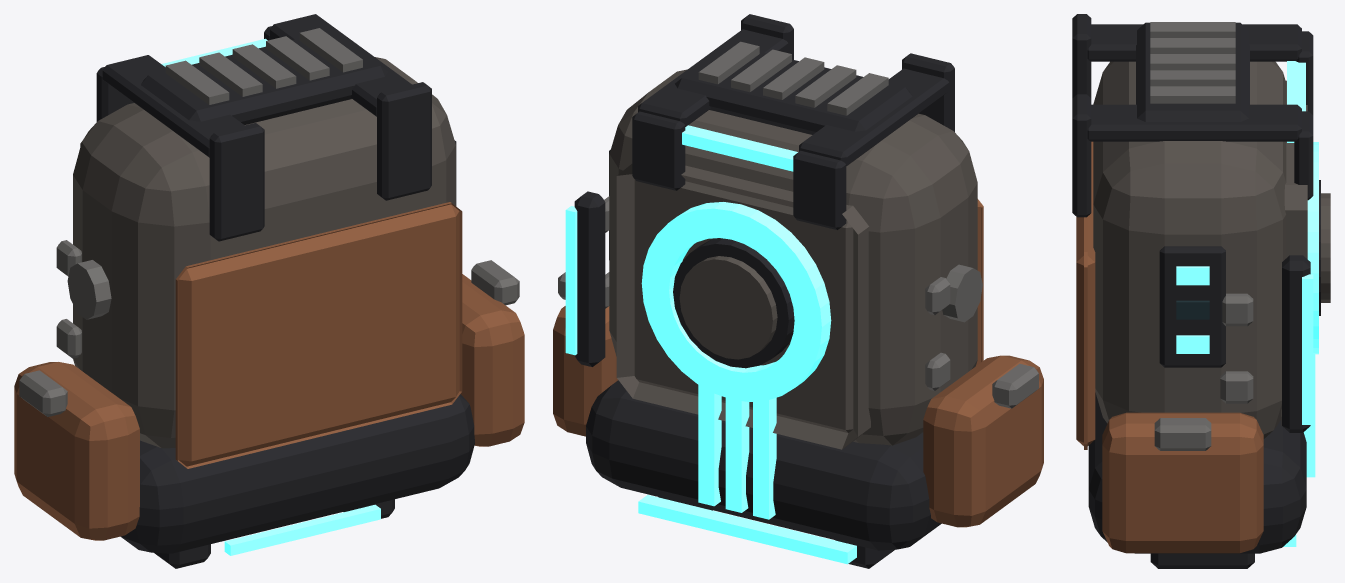
Rendered from backpack.glb.
The picture shows the model from 3 angles, left to right: view 1: azimuth 30°, elevation 25°; view 2: azimuth 150°, elevation 25°; view 3: azimuth 270°, elevation 25°; orthographic projection. The views are drawn at different scales.
Parts seen in each view (by area): view 1: Backpack_Harness, Backpack_Casing, Backpack_Details, Backpack_Glow; view 2: Backpack_Casing, Backpack_Harness, Backpack_Glow, Backpack_Details; view 3: Backpack_Casing, Backpack_Harness, Backpack_Details, Backpack_Glow.
Part boxes in pixels (x1,y1,x2,y2): Backpack_Harness: (14, 14, 524, 568); Backpack_Casing: (56, 57, 474, 553); Backpack_Details: (67, 28, 456, 319); Backpack_Glow: (161, 38, 380, 555); Backpack_Casing: (586, 69, 977, 550); Backpack_Harness: (553, 14, 1043, 568); Backpack_Glow: (565, 125, 856, 564); Backpack_Details: (574, 41, 982, 368); Backpack_Casing: (1088, 61, 1307, 553); Backpack_Harness: (1072, 14, 1313, 568); Backpack_Details: (1136, 22, 1330, 432); Backpack_Glow: (1176, 61, 1318, 546).
Bounding box in the file's own units: 0.57 × 0.534 × 0.272.
